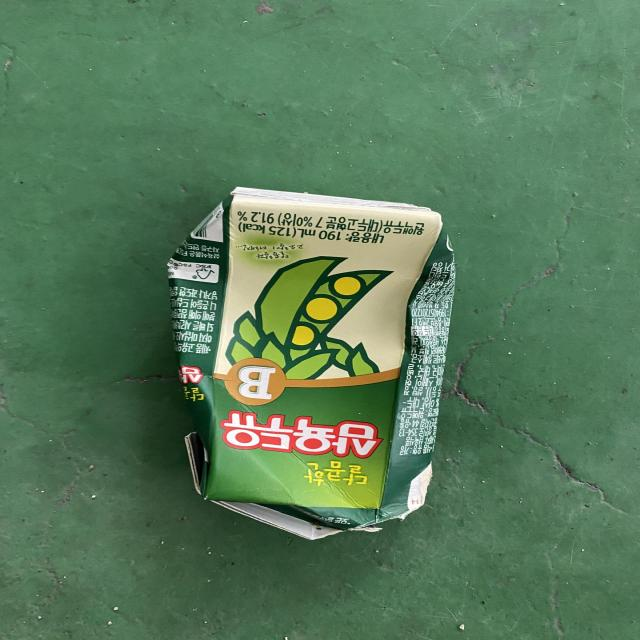paperpack: (167, 187, 455, 540)
